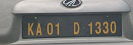0: (109, 20, 117, 34), (46, 22, 54, 35)
1: (54, 22, 62, 36), (87, 21, 94, 35)
3: (94, 21, 102, 35), (102, 20, 109, 35)
A: (35, 22, 43, 35)
D: (73, 21, 81, 35)
K: (27, 22, 35, 36)
